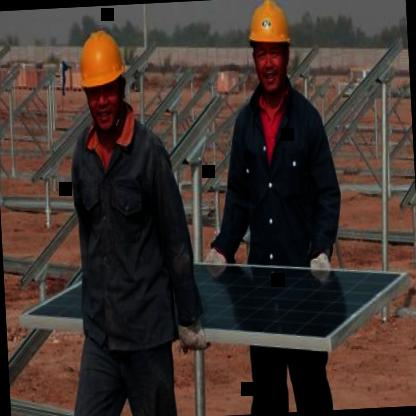helmet: (73, 21, 132, 138), (241, 0, 295, 100)
